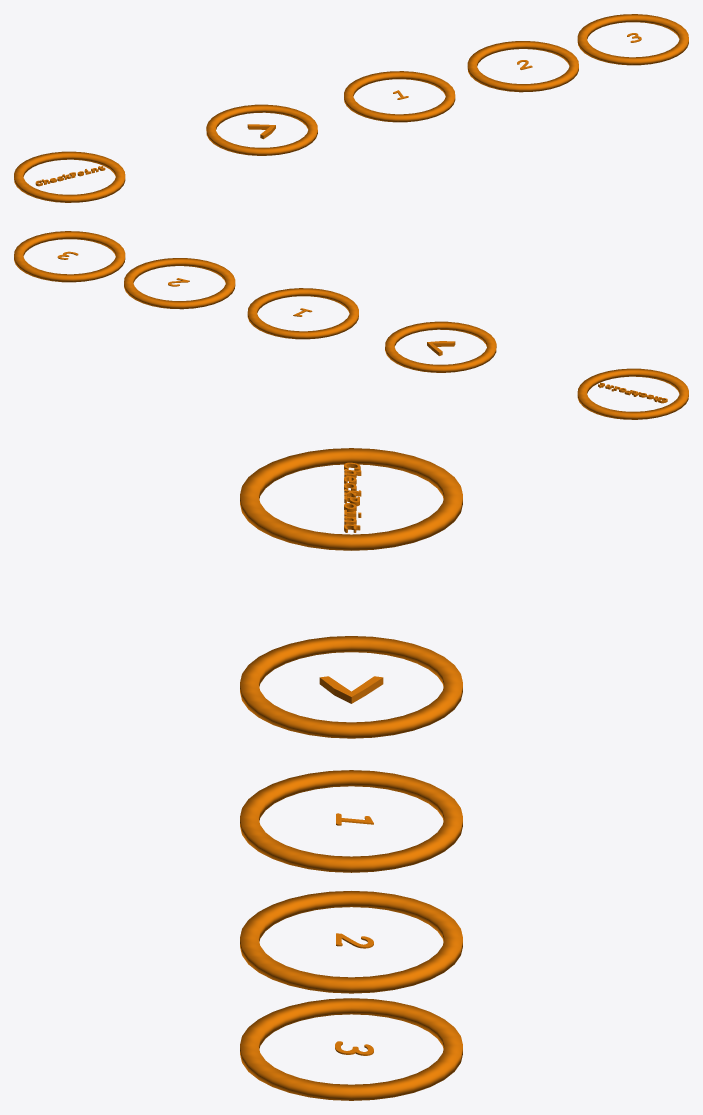
3 renders of one model, top to bottom at view 1: azimuth 30°, elevation 25°; view 2: azimuth 150°, elevation 25°; view 3: azimuth 270°, elevation 25°, orthographic. The views are drawn at different scales.
Visible parts, largest first — view 1: Circle.004, Circle, Circle.002, Circle.003, Circle.001, Text; view 2: Circle.004, Circle, Circle.002, Circle.003, Circle.001, Text; view 3: Circle.004, Circle.001, Circle.002, Circle.003, Circle, Text.
Part boxes in pixels (<box>): Circle.004: <box>206,104,317,155</box>; Circle: <box>14,151,125,202</box>; Circle.002: <box>577,14,688,65</box>; Circle.003: <box>344,71,455,122</box>; Circle.001: <box>467,41,578,92</box>; Text: <box>35,166,105,186</box>; Circle.004: <box>385,321,496,372</box>; Circle: <box>577,368,688,419</box>; Circle.002: <box>14,231,125,282</box>; Circle.003: <box>247,288,358,339</box>; Circle.001: <box>124,258,235,309</box>; Text: <box>598,382,667,403</box>; Circle.004: <box>240,636,462,738</box>; Circle.001: <box>240,891,462,993</box>; Circle.002: <box>240,998,462,1100</box>; Circle.003: <box>240,770,462,872</box>; Circle: <box>240,448,462,550</box>; Text: <box>344,462,361,532</box>.
Size of the model in its own units: 4803 by 703 by 29.3.
